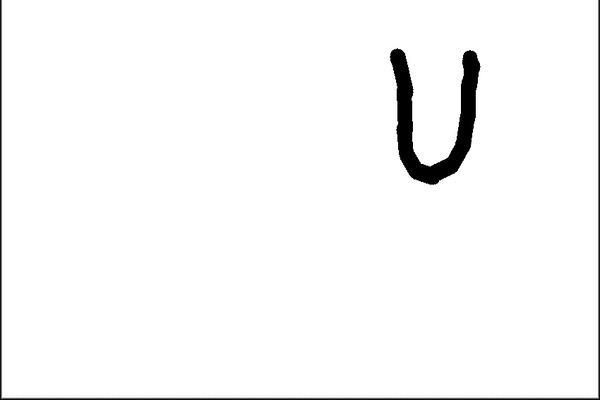U: (376, 35, 491, 190)
